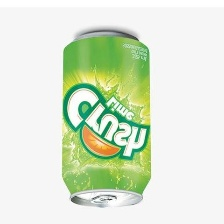can: (54, 28, 160, 211)
